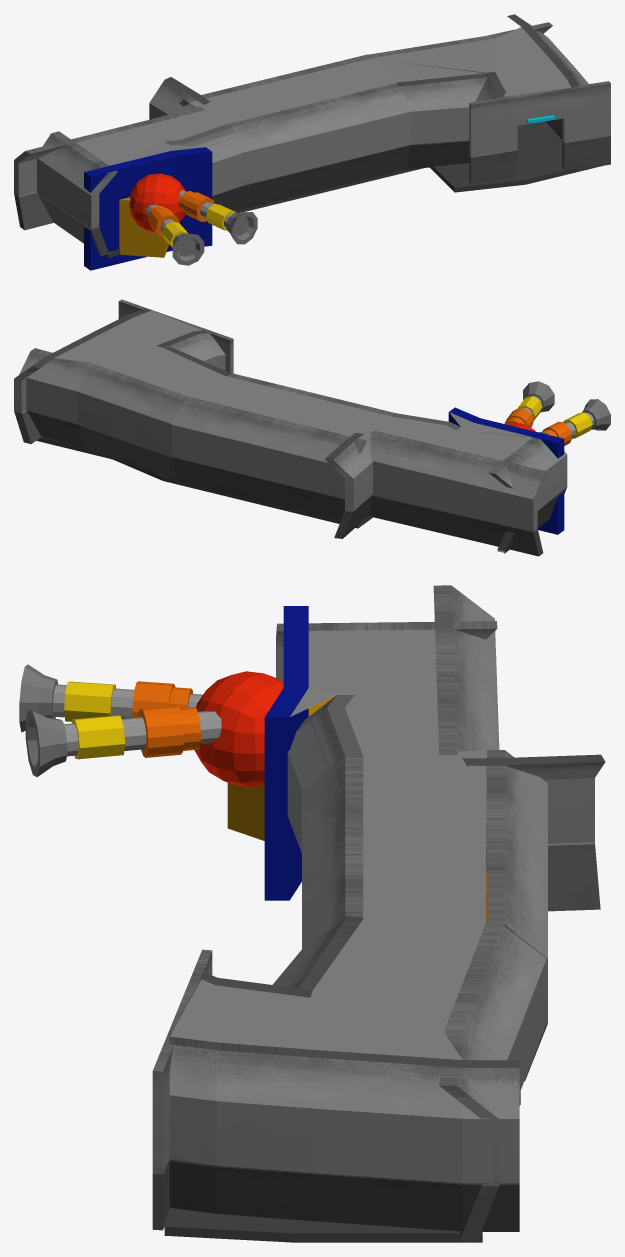
File: onderverdieping_met_dak_.fbx
3 renders of one model, top to bottom at view 1: azimuth 30°, elevation 25°; view 2: azimuth 150°, elevation 25°; view 3: azimuth 270°, elevation 25°, orthographic. The views are drawn at different scales.
Visible parts, largest first — view 1: Cube.008, Cube.031, Cube.030, Cube.029, Circle.001, Circle.005, Circle.007, Circle.003, Circle.008; view 2: Cube.008, Cube.031, Circle.001, Circle.005, Circle.004, Circle.003, Circle.007; view 3: Cube.008, Cube.030, Cube.031, Circle.007, Circle.005, Cube.029, Circle.008, Circle.006, Circle.004, Circle.001, Circle.003, Circle.002.
Boxes of the visible parts, left/top/right/bottom form: Cube.008: left=14, top=14, right=610, bottom=270; Cube.031: left=106, top=121, right=601, bottom=258; Cube.030: left=129, top=173, right=185, bottom=232; Cube.029: left=119, top=197, right=169, bottom=257; Circle.001: left=172, top=233, right=204, bottom=265; Circle.005: left=226, top=212, right=257, bottom=244; Circle.007: left=179, top=191, right=214, bottom=221; Circle.003: left=148, top=205, right=179, bottom=237; Circle.008: left=206, top=204, right=235, bottom=230; Cube.008: left=14, top=299, right=567, bottom=556; Cube.031: left=36, top=436, right=466, bottom=539; Circle.001: left=582, top=399, right=610, bottom=430; Circle.005: left=523, top=381, right=554, bottom=412; Circle.004: left=563, top=412, right=592, bottom=438; Circle.003: left=542, top=421, right=571, bottom=445; Circle.007: left=504, top=408, right=533, bottom=427; Cube.008: left=152, top=585, right=605, bottom=1241; Cube.030: left=194, top=671, right=283, bottom=787; Cube.031: left=164, top=1091, right=520, bottom=1242; Circle.007: left=138, top=705, right=200, bottom=757; Circle.005: left=25, top=709, right=67, bottom=777; Cube.029: left=227, top=695, right=335, bottom=840; Circle.008: left=71, top=715, right=125, bottom=759; Circle.006: left=64, top=711, right=221, bottom=756; Circle.004: left=64, top=681, right=116, bottom=721; Circle.001: left=19, top=664, right=58, bottom=732; Circle.003: left=132, top=681, right=193, bottom=717; Circle.002: left=53, top=684, right=202, bottom=718.
Size of the model in its own units: 3698 by 637 by 1829.
